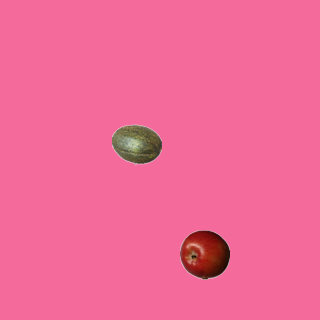Apple Braeburn: (179, 229, 229, 279)
Melon Piel de Sapo: (111, 119, 161, 169)
